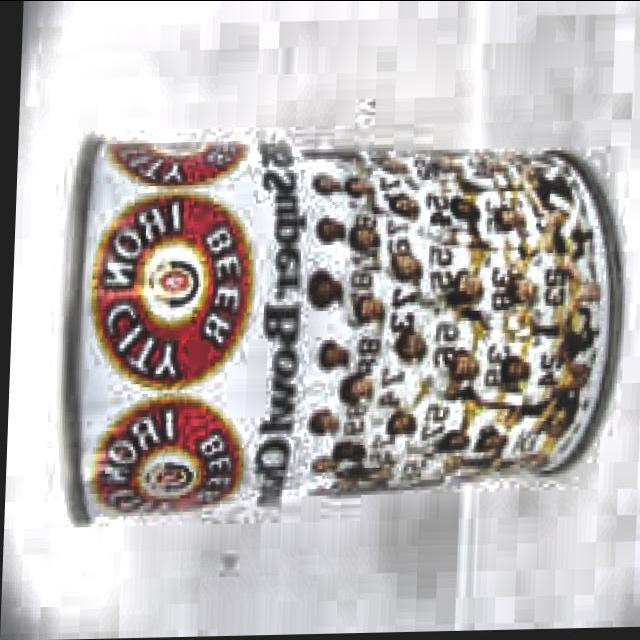Aluminum Can: (50, 120, 629, 530)
